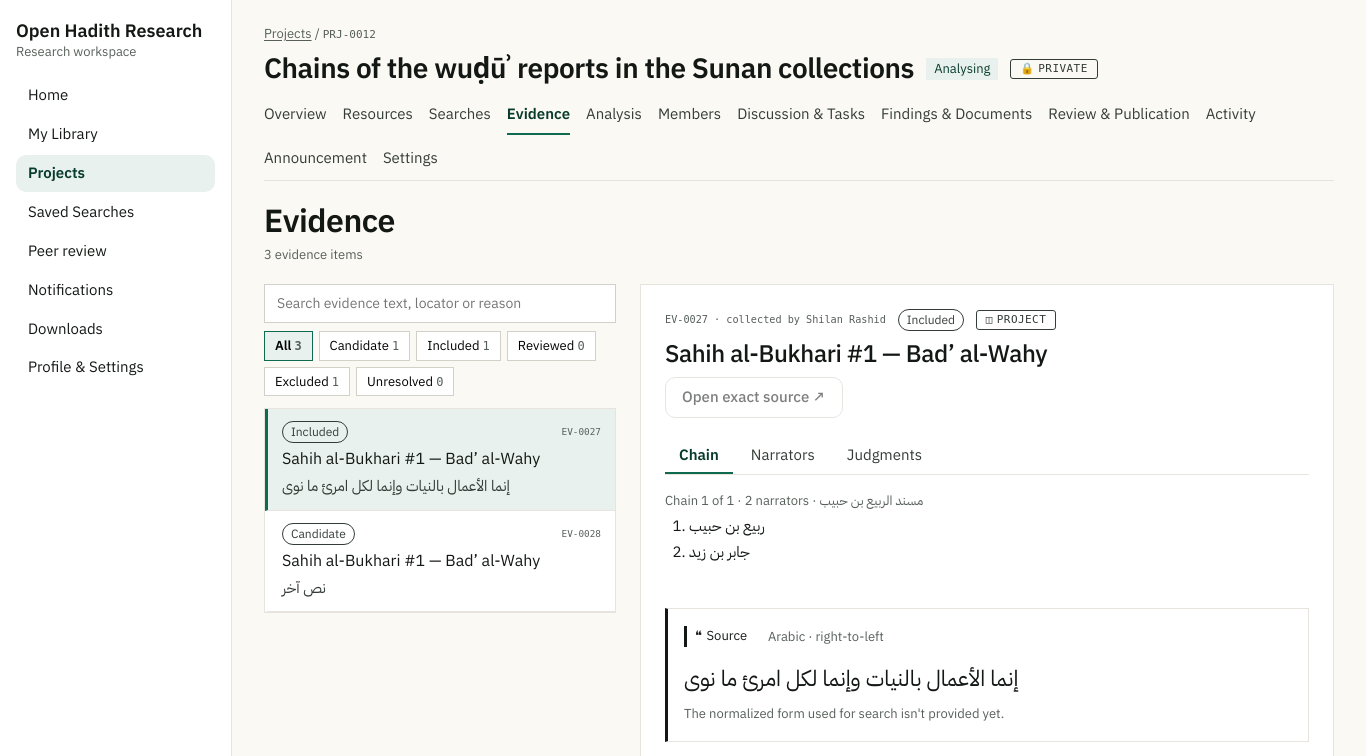
Test case: Evidence inspector › shows chain, narrators and judgments from the corpus record
Expected: the text "Chain 1 of 1 · 2 narrators" is shown, top-left (665, 491), bottom-right (809, 510)
Expected: the text "ربيع بن حبيب" is shown, top-left (689, 515), bottom-right (765, 537)
Click the tab "Narrators". click: (783, 456)
box: top-left (737, 438), bottom-right (829, 474)
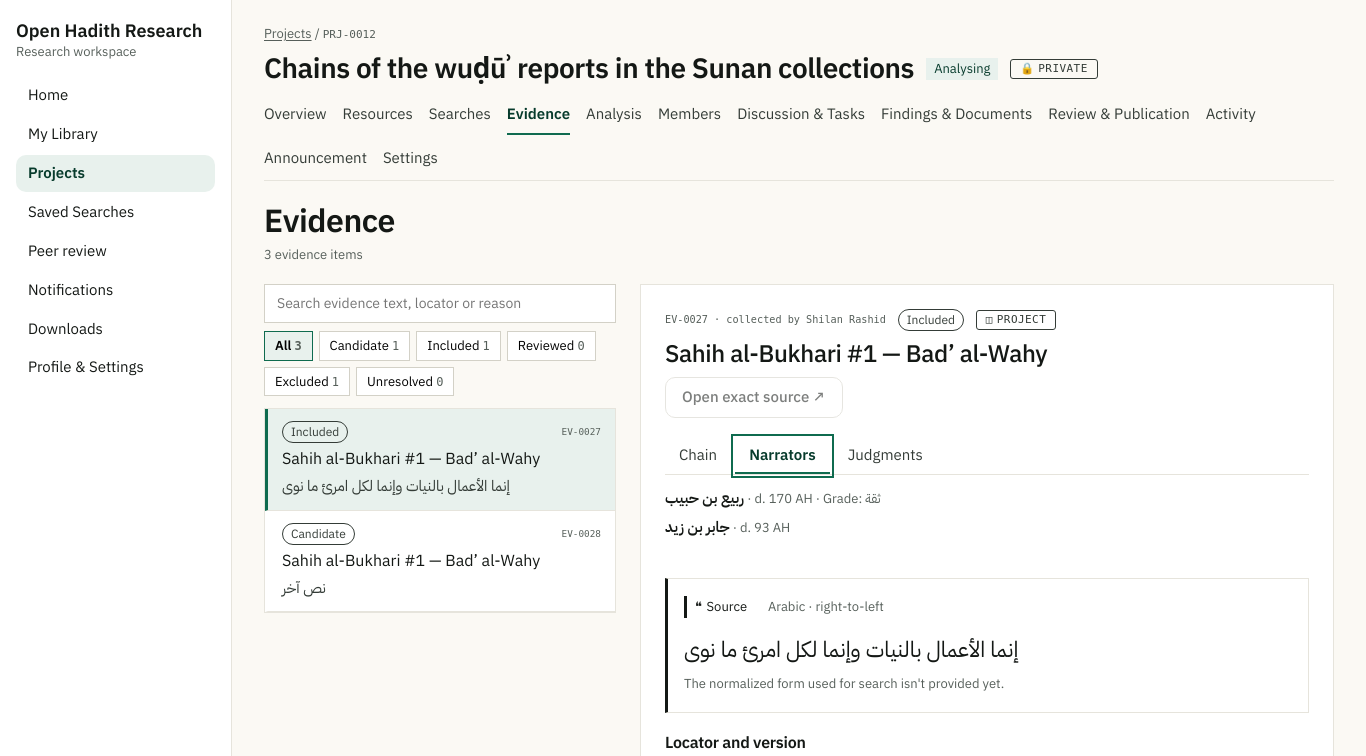
Expected: the text "· d. 170 AH · Grade: ثقة" is shown, top-left (744, 489), bottom-right (881, 508)
Click the tab "Judgments". click: (885, 456)
box: top-left (834, 438), bottom-right (937, 474)
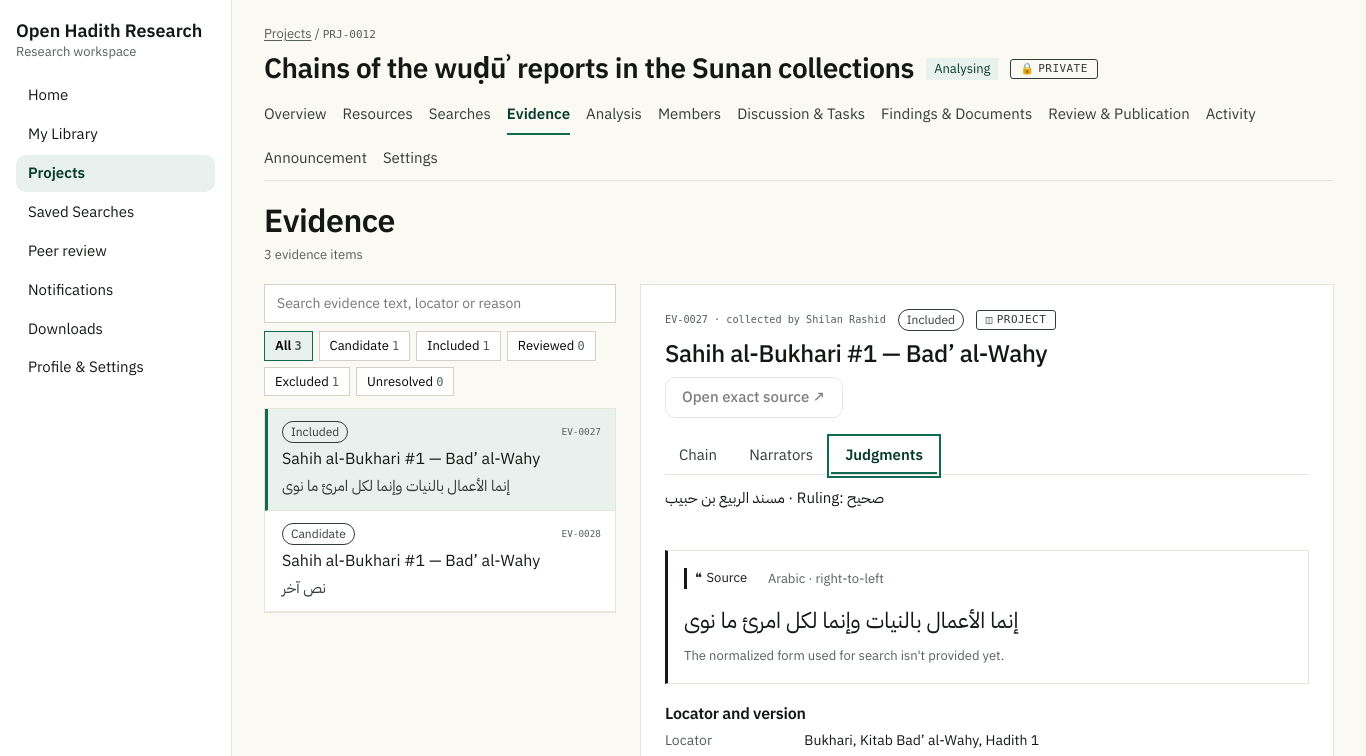
Expected: the list item "مسند الربيع بن حبيب · Ruling: صحيح" is shown, top-left (665, 487), bottom-right (884, 509)
